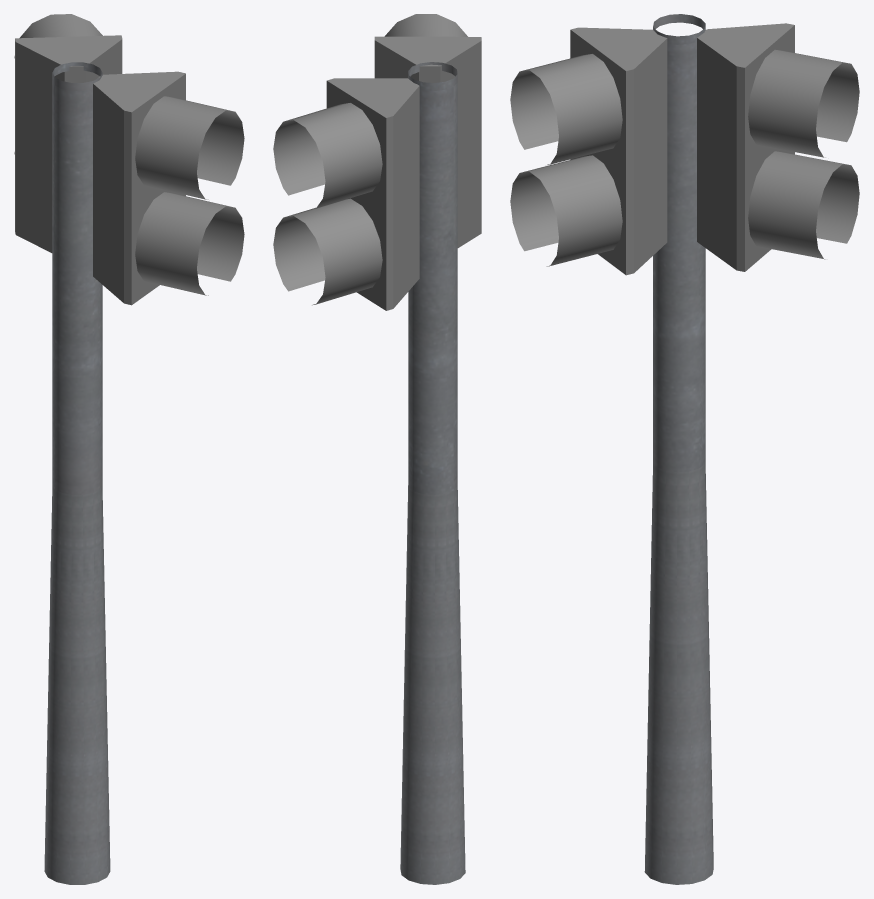
Rendered from TrafficLight_LOD0.gltf.
The picture shows the model from 3 angles, left to right: view 1: azimuth 30°, elevation 25°; view 2: azimuth 150°, elevation 25°; view 3: azimuth 270°, elevation 25°; orthographic projection. The views are drawn at different scales.
Parts seen in each view (by area): view 1: node1, node4; view 2: node1, node4; view 3: node4, node1.
Part boxes in pixels (x1,y1,x2,y2): node1: (44, 62, 110, 884); node4: (14, 14, 244, 305); node1: (400, 62, 465, 884); node4: (273, 14, 481, 310); node4: (510, 23, 859, 275); node1: (644, 14, 713, 884).
Bounding box in the file's own units: 0.2349 × 1.29 × 0.4841.
